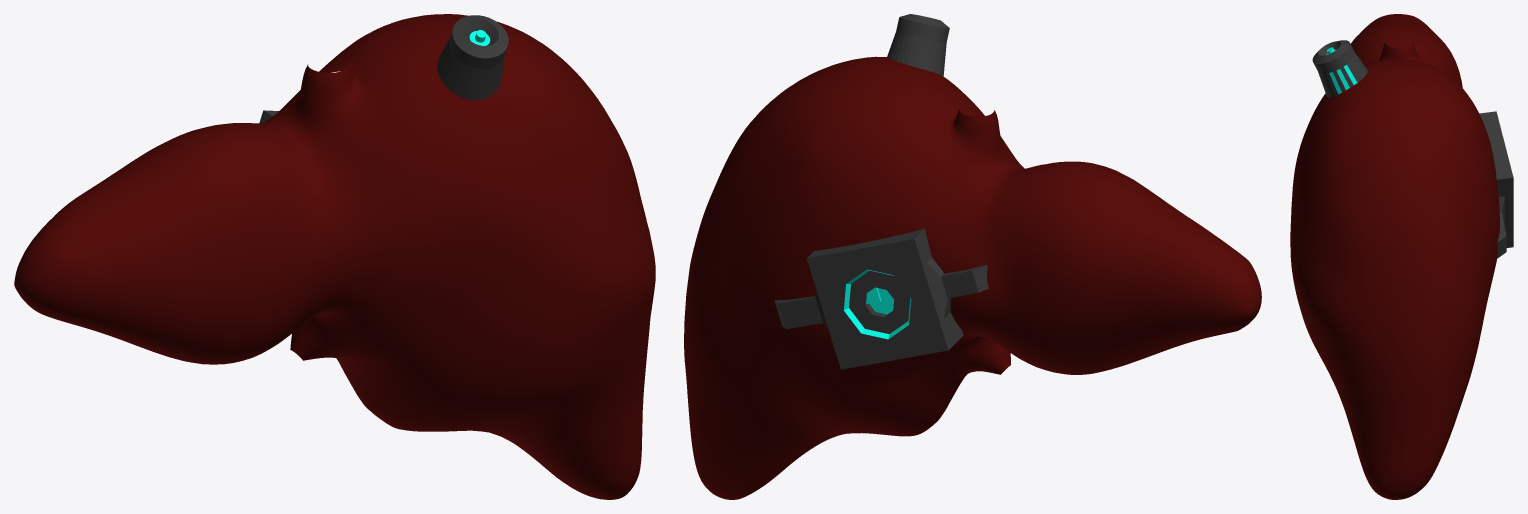
File: HigadoCyborg.glb
3 views of the same model, side by side, from view 1: azimuth 30°, elevation 25°; view 2: azimuth 150°, elevation 25°; view 3: azimuth 270°, elevation 25° (orthographic). The views are drawn at different scales.
Parts seen in each view (by area): view 1: Mesh0, Cube; view 2: Mesh0, Cube; view 3: Mesh0, Cube.
Part boxes in pixels (x1,y1,x2,y2): Mesh0: (14,14,655,499); Cube: (259,15,508,123); Mesh0: (684,56,1261,499); Cube: (774,14,988,369); Mesh0: (1290,14,1499,499); Cube: (1312,40,1513,258).
Bounding box in the file's own units: 198 × 166 × 85.23.
